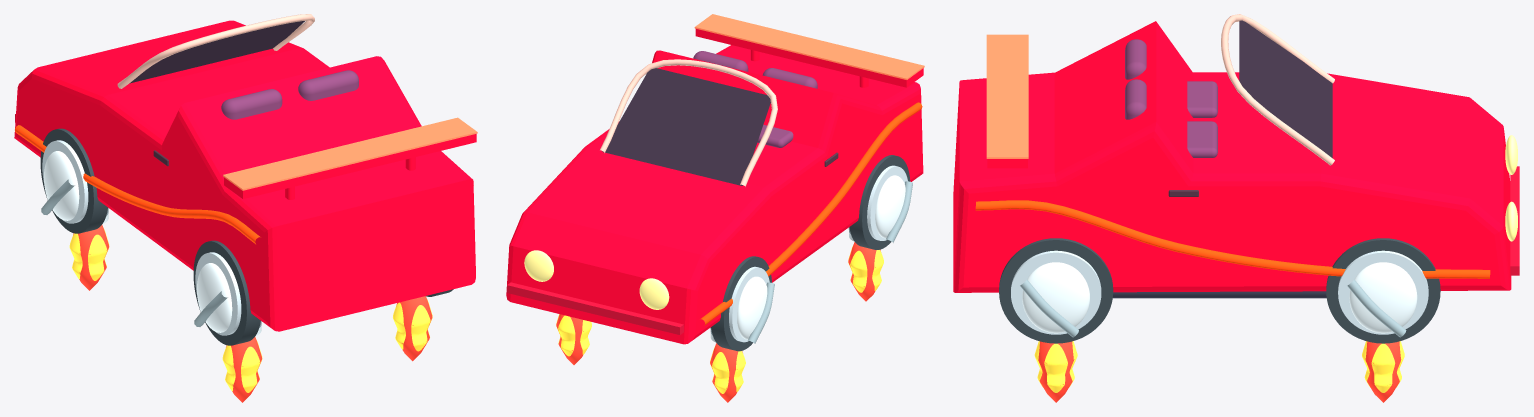
The model's file is ship-21.glb.
The picture shows the model from 3 angles, left to right: view 1: azimuth 30°, elevation 25°; view 2: azimuth 150°, elevation 25°; view 3: azimuth 270°, elevation 25°; orthographic projection. The views are drawn at different scales.
Parts seen in each view (by area): view 1: 레이서, engine-flame (×3); view 2: 레이서, engine-flame (×3); view 3: 레이서, engine-flame (×2).
Boxes of the visible parts, <box> form: 레이서: <box>14,14,477,345</box>; engine-flame (×3): <box>69,224,432,402</box>; 레이서: <box>506,14,924,351</box>; engine-flame (×3): <box>556,242,883,402</box>; 레이서: <box>953,14,1519,343</box>; engine-flame (×2): <box>1034,341,1404,402</box>.
Bounding box in the file's own units: 14.9 × 16.84 × 27.
